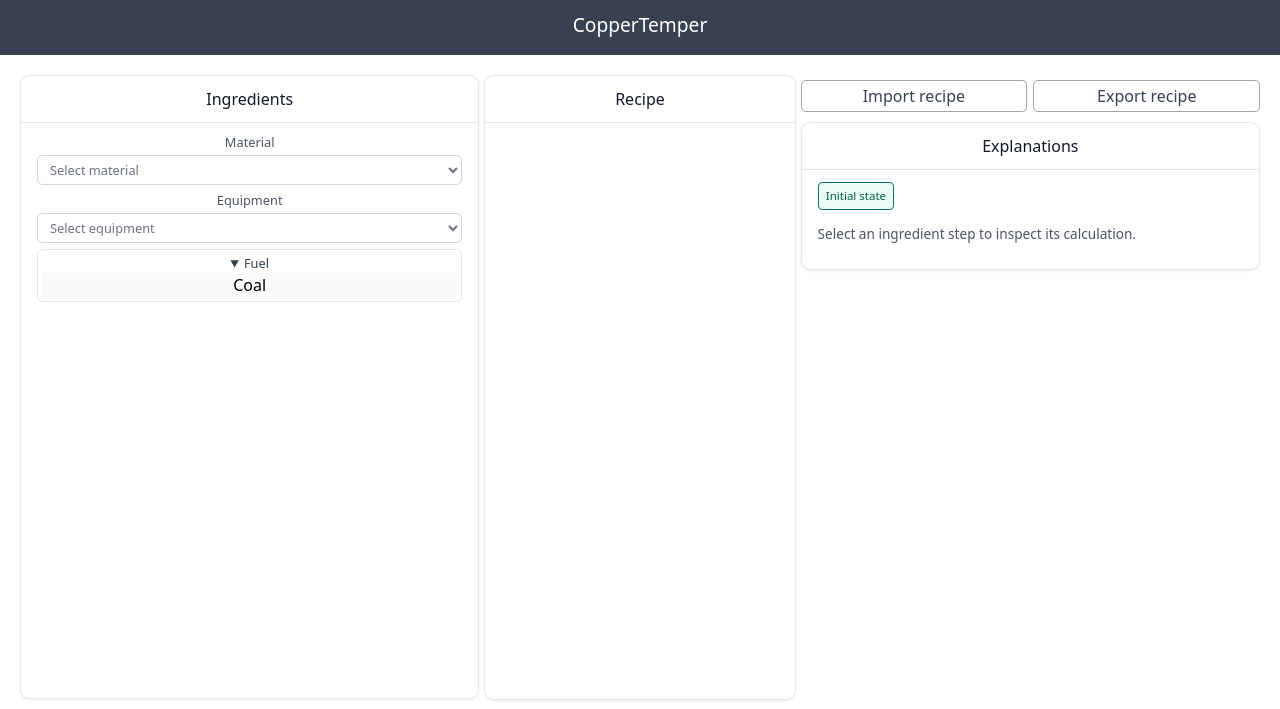
Scenario: App › shows the selected simulation phase
Select "Iron" in the dropdown labelled "Material" at (250,170), box x1=37 y1=155 x2=462 y2=185
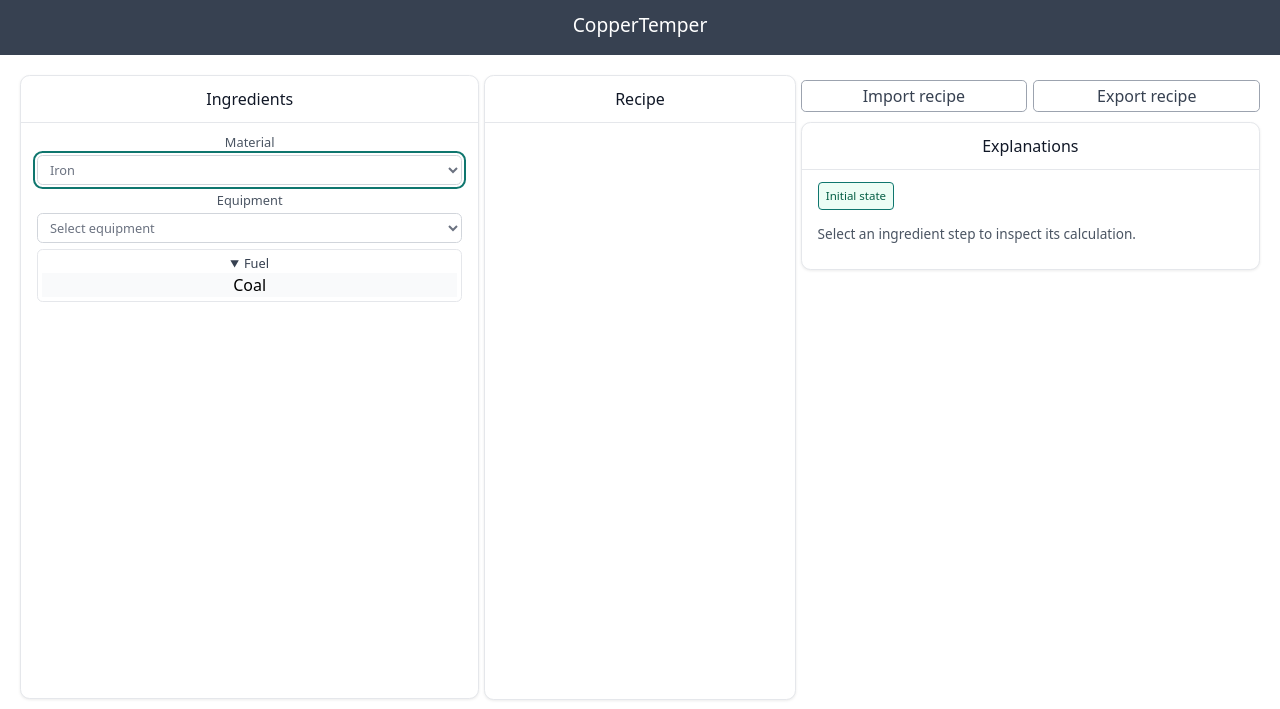
Select "Sword" in the dropdown labelled "Equipment" at (250,228), box x1=37 y1=213 x2=462 y2=243
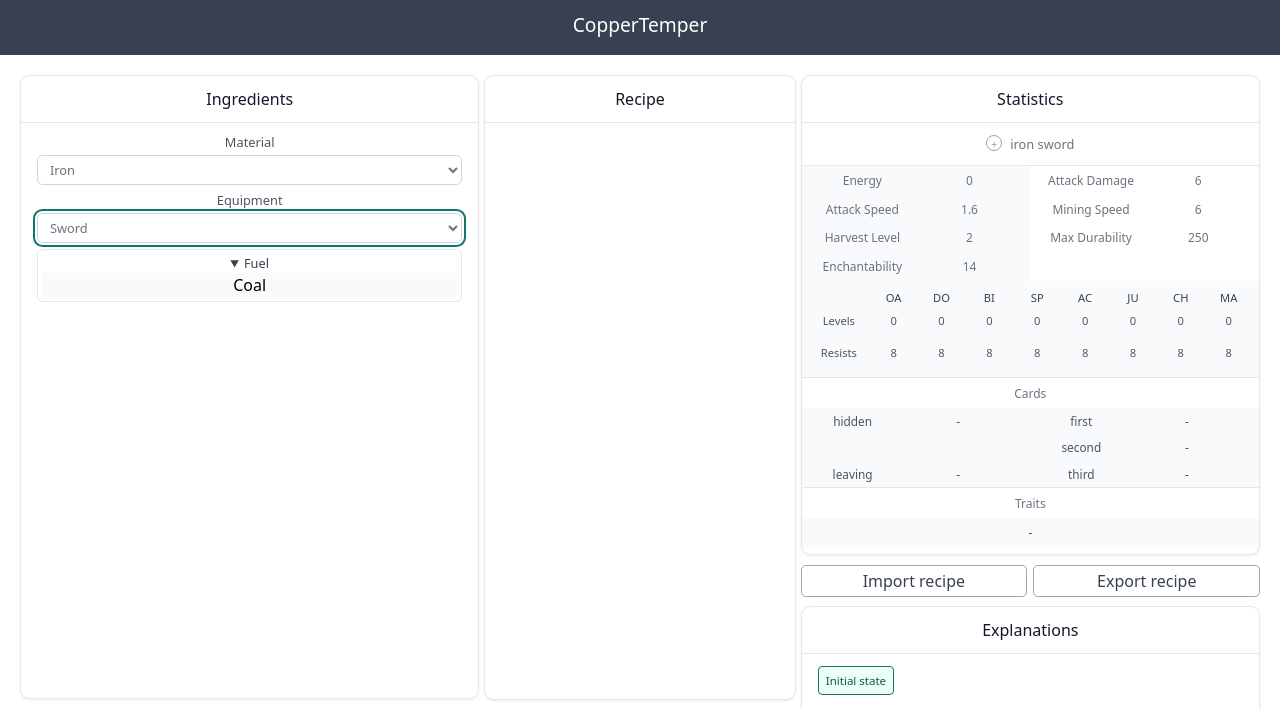
Click the button "Coal" at (250,285), box x1=42 y1=273 x2=457 y2=297
(page scrolled)
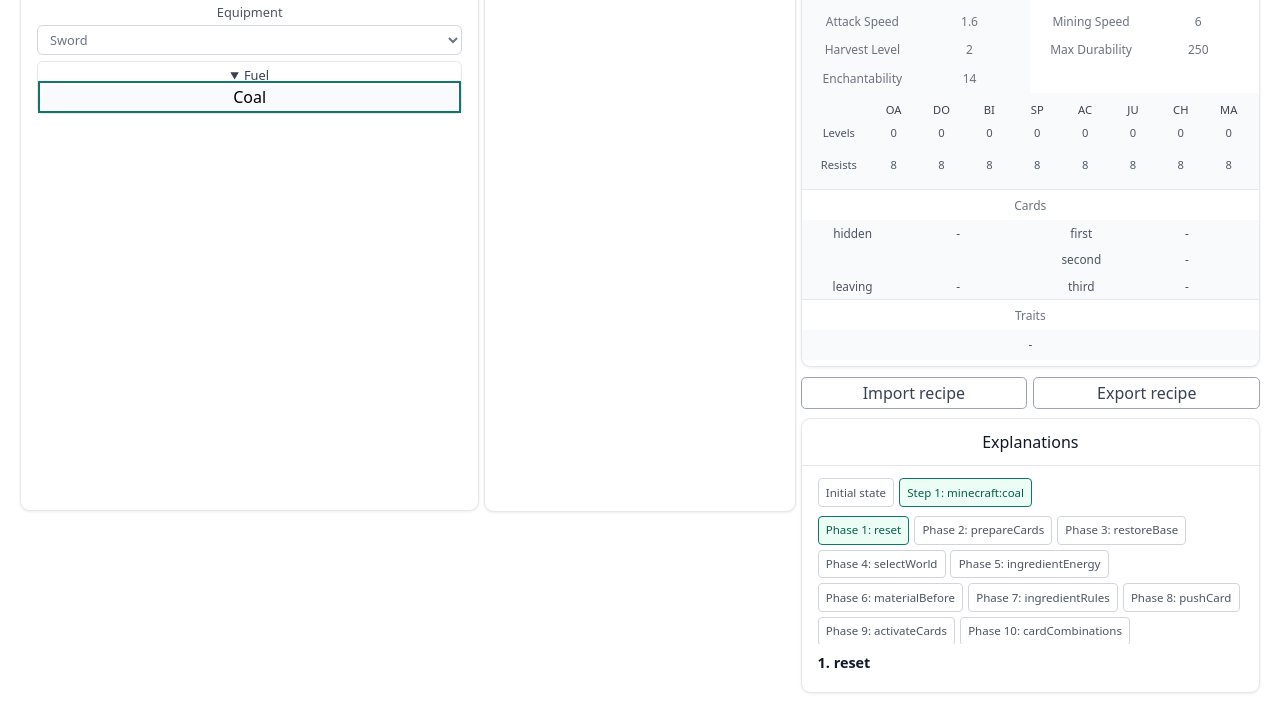
Click the button "Phase 5: ingredientEnergy" at (1030,564), box x1=950 y1=550 x2=1109 y2=578
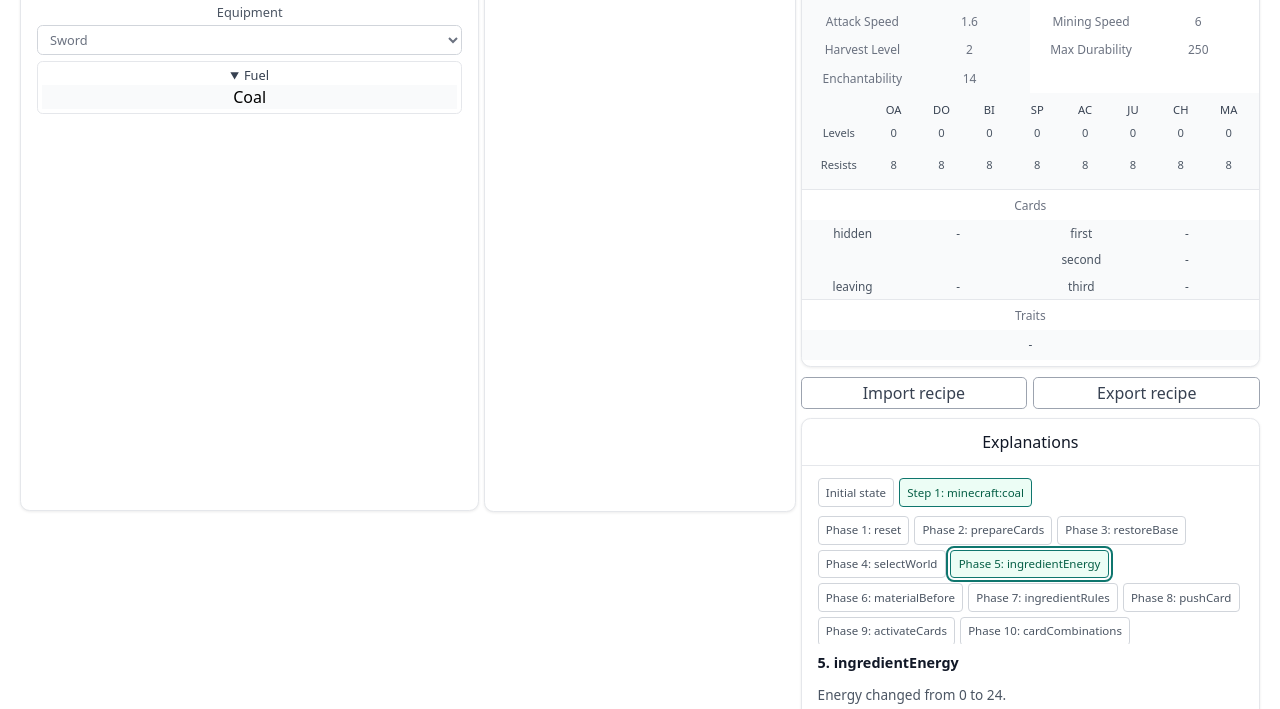
Now the heading "5. ingredientEnergy" is shown, box x1=818 y1=653 x2=959 y2=672
